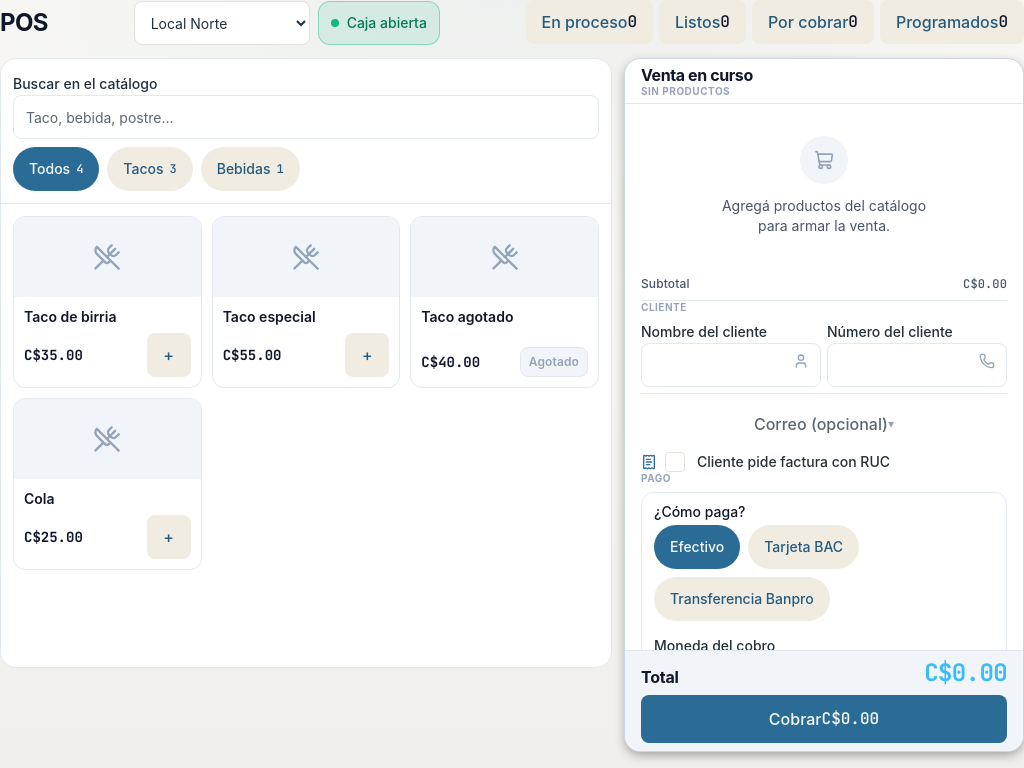
Scenario: PosClient › suma y resta unidades, y sacar deja la venta vacía
Check: the text "Cola" is shown, box [24,490,54,507]
Step 1. Click the button named "Agregar Cola a la venta" → (169, 537), box [147,515,191,559]
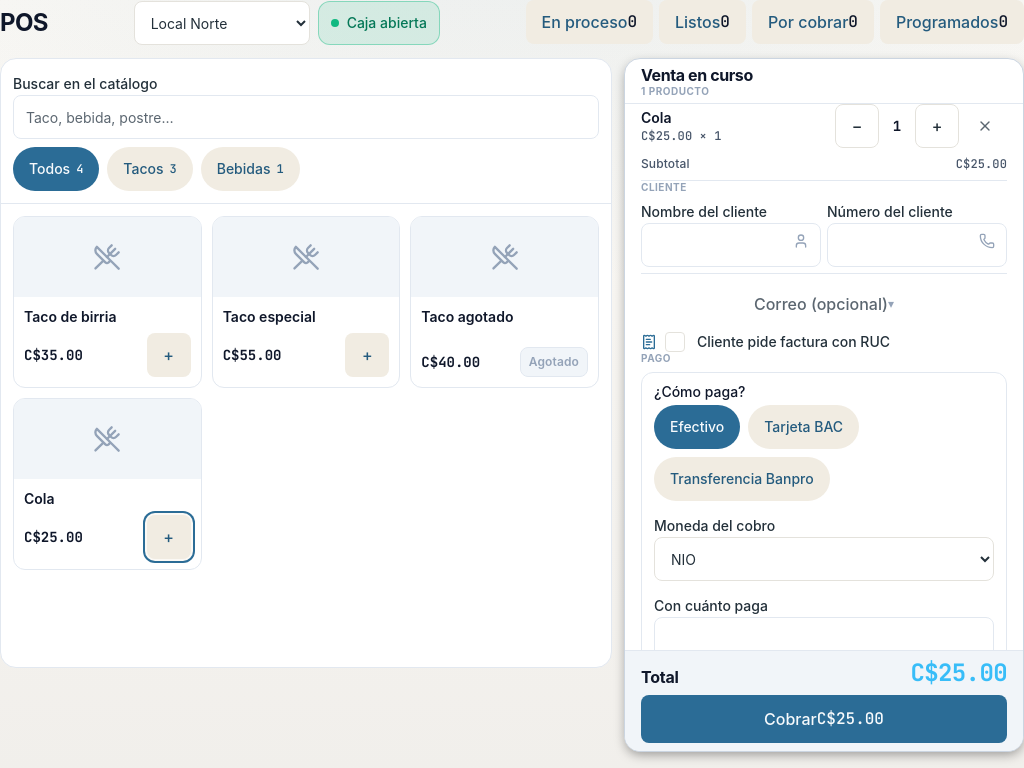
Step 2. Click the button named "Agregar una unidad de Cola" → (937, 126), box [915,104,959,148]
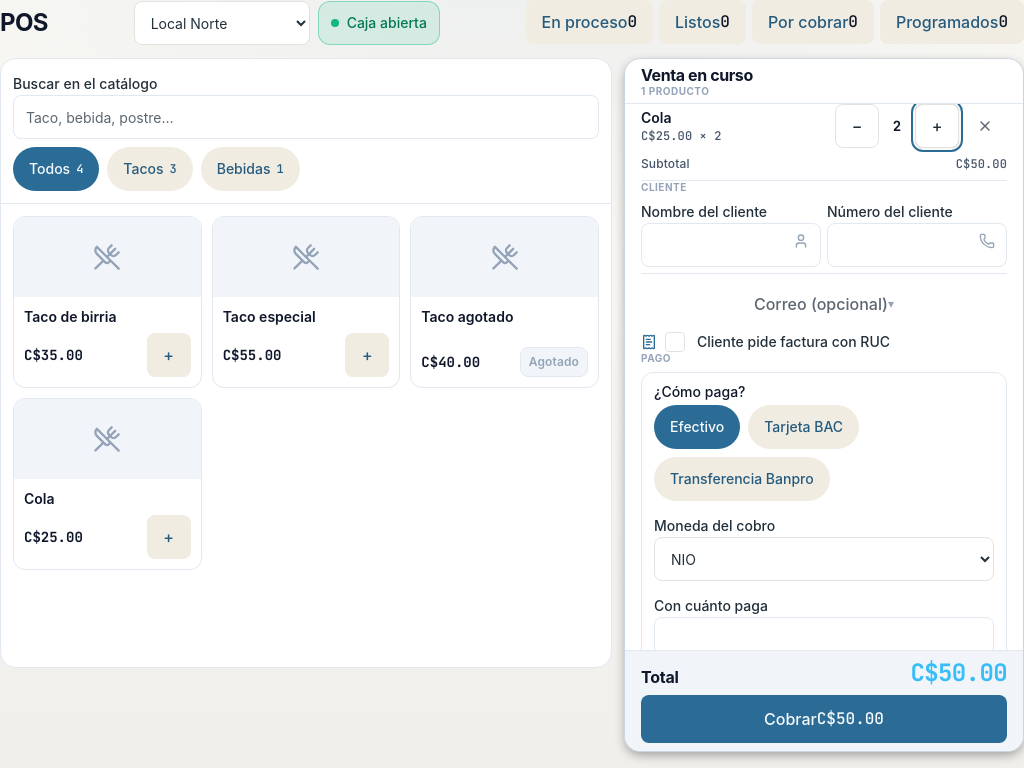
Check: the text "C$50.00" in the row of "Subtotal" is shown, box [956,156,1007,172]
Step 3. Click the button named "Quitar una unidad de Cola" → (857, 126), box [835,104,879,148]
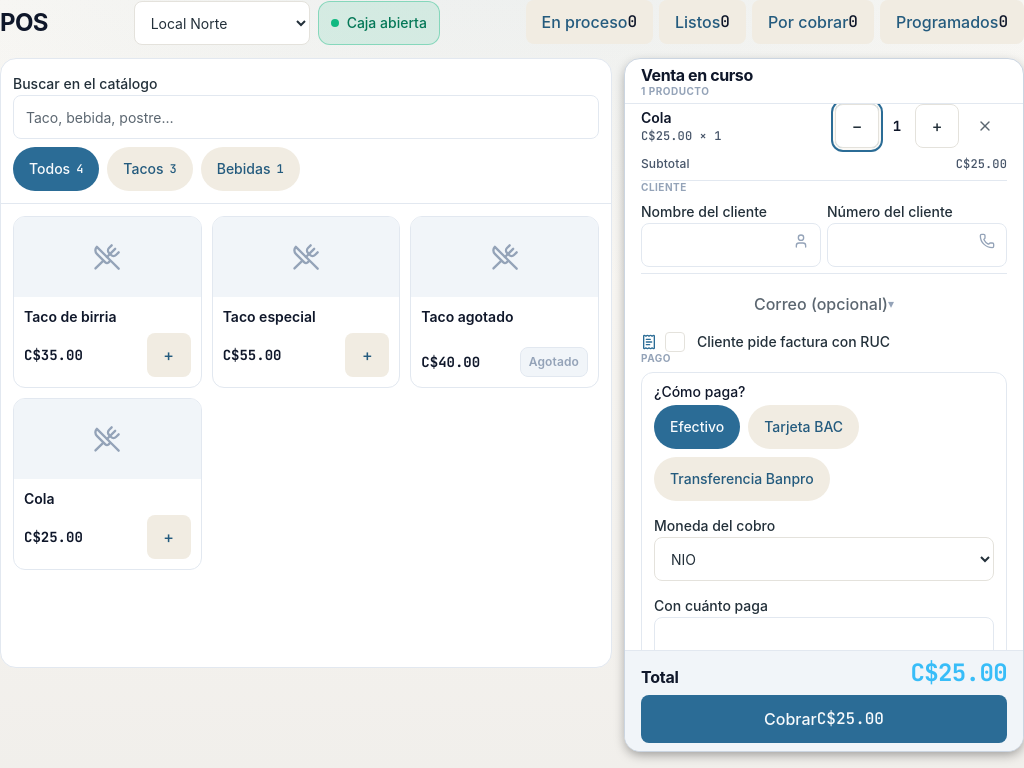
Check: the text "C$25.00" below "C$35.00" is shown, box [24,528,83,546]
Step 4. Click the button named "Sacar Cola de la venta" → (985, 126), box [963,104,1007,148]
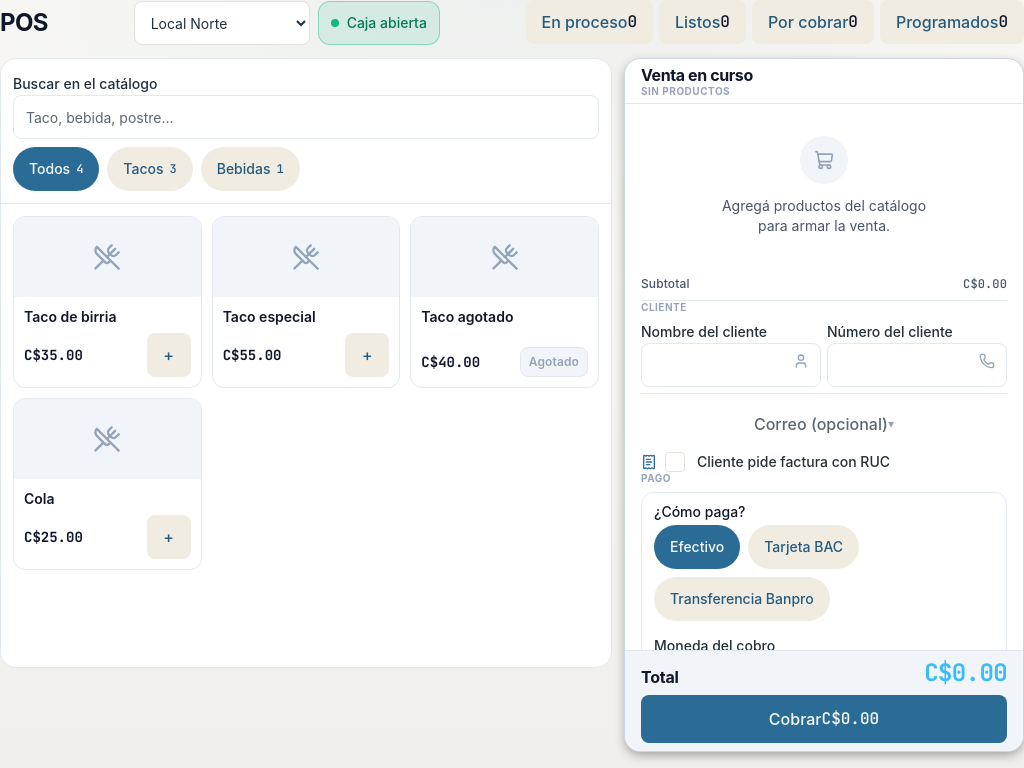
Check: the text "Agregá productos del catálogo para armar la venta." is shown, box [712,196,936,236]
